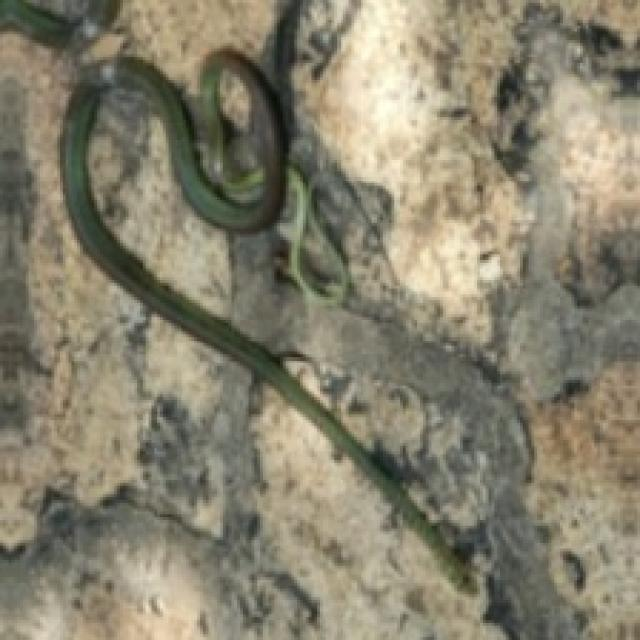paradise tree snake: (60, 49, 474, 591)
